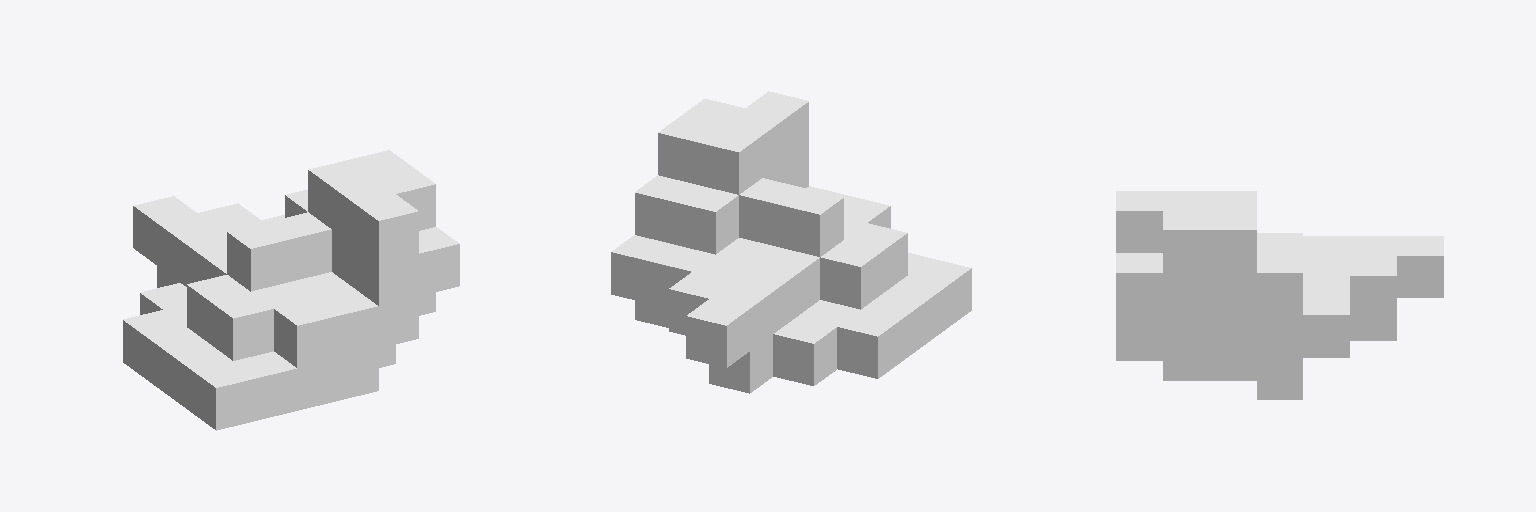
File: particles-3.obj
3 renders of one model, left to right at view 1: azimuth 30°, elevation 25°; view 2: azimuth 150°, elevation 25°; view 3: azimuth 270°, elevation 25°, orthographic.
Parts seen in each view (by area): view 1: object 1; view 2: object 1; view 3: object 1.
Boxes of the visible parts, x1,y1,x2,y2 form: object 1: [123, 150, 459, 430]; object 1: [611, 91, 971, 393]; object 1: [1116, 191, 1443, 399].
Bounding box in the file's own units: 1.2 × 0.8 × 1.4.